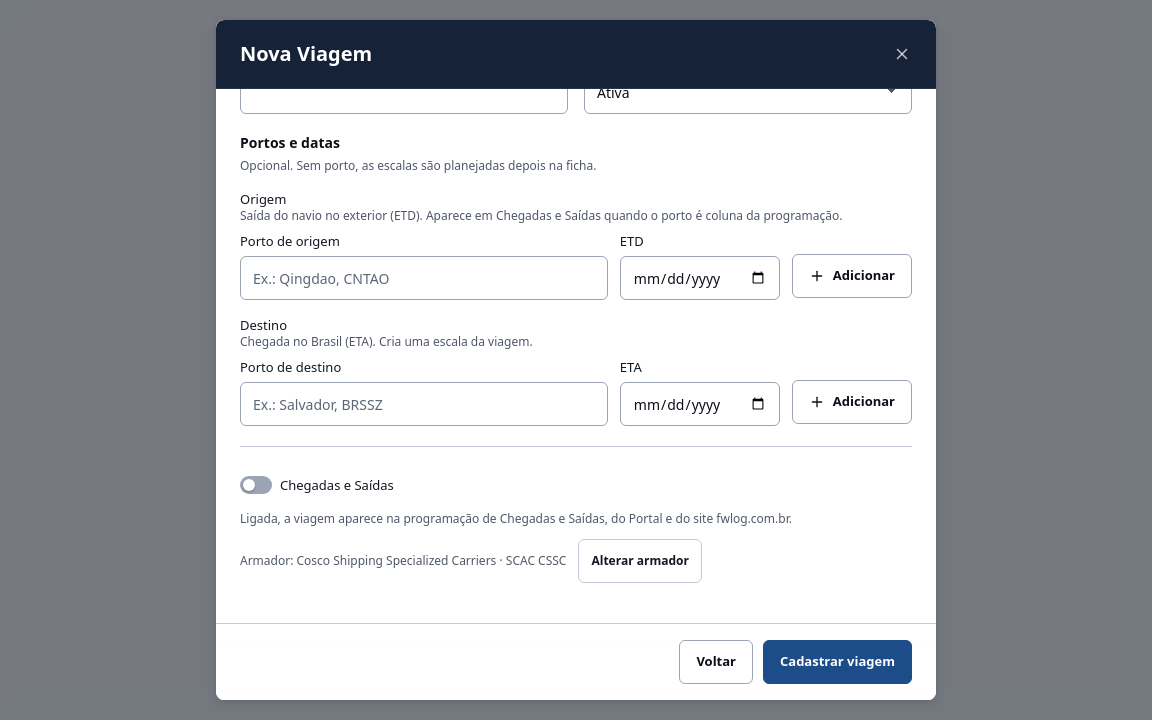
Test: VoyageCreateModal › abre com navio, número e o seletor de portos; armador fica numa linha
(page scrolled)
Expected: the heading "Portos e datas" is shown, [240,133,340,152]
Expected: the heading "Origem" is shown, [240,190,286,208]
What coordinates should you click on to do the following:
click the button "Alterar armador"
I would click on:
 (640, 561)
Its box is [578,539,702,583].
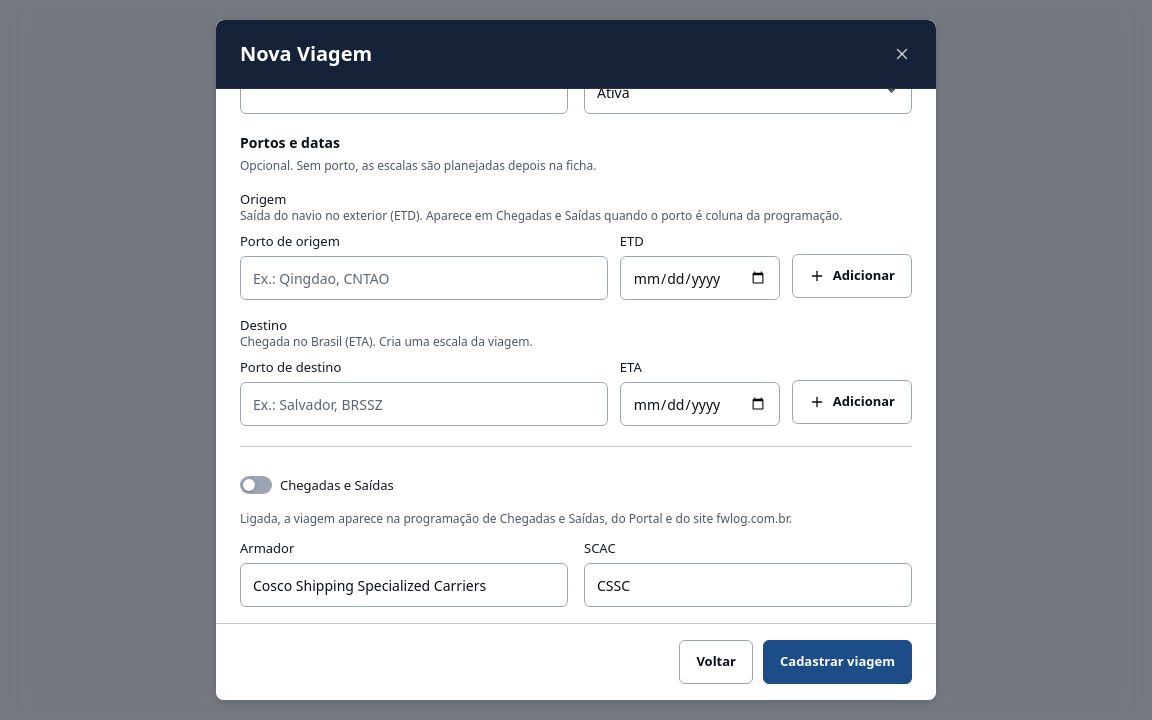
Expected: the field labelled "Armador" holds "Cosco Shipping Specialized Carriers", [240,563,568,607]
